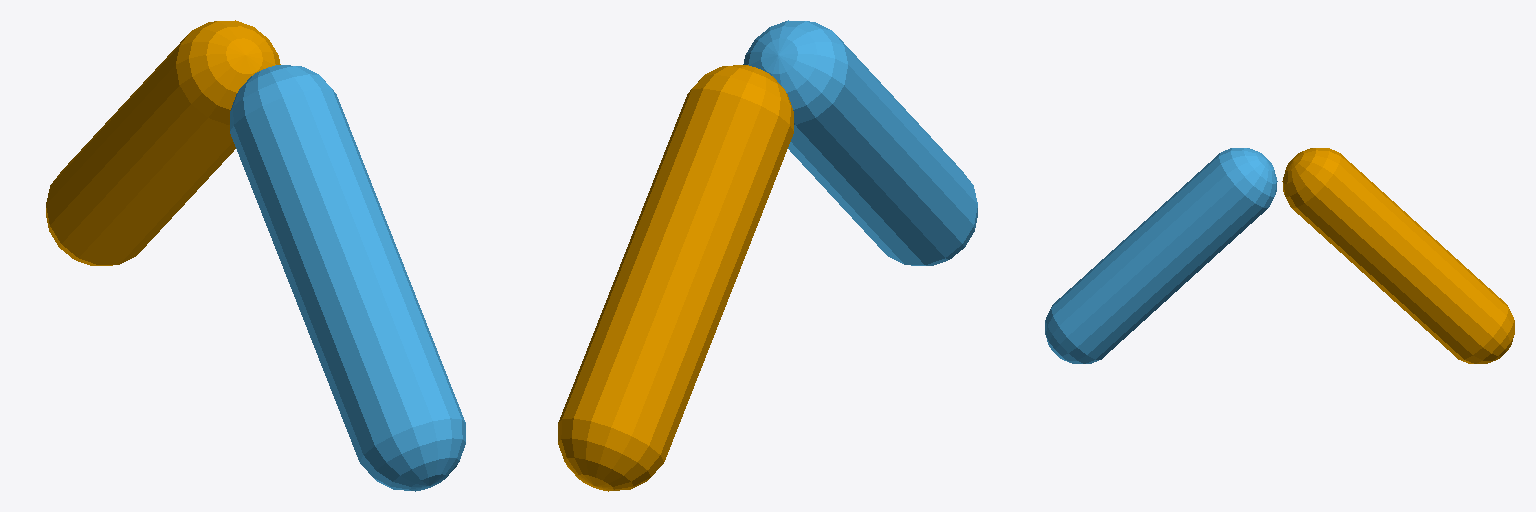
robot.urdf — capsule01:
<?xml version='1.0' encoding='ASCII'?>
<robot name="capsule01">
  <link name="left">
    <inertial>
      <origin xyz="0.0 0.7954951524734497 -0.7954951524734497" rpy="0.7853981633974483 -0.0 0.0"/>
      <mass value="3.402152210845047"/>
      <inertia ixx="1.0120529975194035" ixy="7.613529668558981e-09" ixz="8.153662718657032e-09" iyy="1.01205299082973" iyz="-4.0650131049901535e-09" izz="0.09699375047974544"/>
    </inertial>
    <visual>
      <geometry>
        <mesh filename="capsule01.stl" scale="1. 1. 1."/>
      </geometry>
      <origin xyz="0.0 0.7954951524734497 -0.7954951524734497" rpy="0.7853981633974483 -0.0 0.0"/>
    </visual>
    <collision name="left_coll">
      <geometry>
        <mesh filename="capsule01.stl" scale="1. 1. 1."/>
      </geometry>
      <origin xyz="0.0 0.7954951524734497 -0.7954951524734497" rpy="0.7853981633974483 -0.0 0.0"/>
    </collision>
    <contact>
      <restitution value="1.0"/>
      <rolling_friction value="0.001"/>
      <spinning_friction value="0.001"/>
    </contact>
  </link>
  <link name="right">
    <inertial>
      <origin xyz="0.0 0.0 -1.125" rpy="0.0 -0.0 0.0"/>
      <mass value="0.3402152210845047"/>
      <inertia ixx="0.10120529975194034" ixy="7.613529668558981e-10" ixz="8.153662718657033e-10" iyy="0.101205299082973" iyz="-4.0650131049901535e-10" izz="0.009699375047974544"/>
    </inertial>
    <visual>
      <geometry>
        <mesh filename="capsule01.stl" scale="1. 1. 1."/>
      </geometry>
      <origin xyz="0.0 0.0 -1.125" rpy="0.0 -0.0 0.0"/>
    </visual>
    <collision name="right_coll">
      <geometry>
        <mesh filename="capsule01.stl" scale="1. 1. 1."/>
      </geometry>
      <origin xyz="0.0 0.0 -1.125" rpy="0.0 -0.0 0.0"/>
    </collision>
    <contact>
      <restitution value="1.0"/>
      <rolling_friction value="0.001"/>
      <spinning_friction value="0.001"/>
    </contact>
  </link>
  <joint name="left_right" type="continuous">
    <parent link="left"/>
    <child link="right"/>
    <axis xyz="1. 0. 0."/>
    <origin xyz="0.0 0.0 0.0" rpy="-0.7853981633974483 -0.0 0.0"/>
  </joint>
</robot>

--- What the picture shows (computed from the rendered views, not written in the file) ---
The picture shows the robot from 3 angles, left to right: view 1: azimuth 30°, elevation 25°; view 2: azimuth 150°, elevation 25°; view 3: azimuth 270°, elevation 25°; orthographic projection.
Model capsule01 with 2 links and 1 joints (1 continuous), rooted at left, posed every joint at zero.
Links seen in each view (by area): view 1: right, left; view 2: left, right; view 3: left, right.
Link boxes in pixels (x1=…): right: x1=230, y1=65, x2=465, y2=491; left: x1=46, y1=20, x2=280, y2=265; left: x1=558, y1=65, x2=793, y2=491; right: x1=743, y1=20, x2=977, y2=265; left: x1=1282, y1=148, x2=1514, y2=363; right: x1=1045, y1=148, x2=1277, y2=363.
Size in the robot's own frame: 0.4924 by 3.15 by 1.56 metres.
Meshes: 1 distinct files referenced, 2 mesh visuals loaded (1 binary STL).